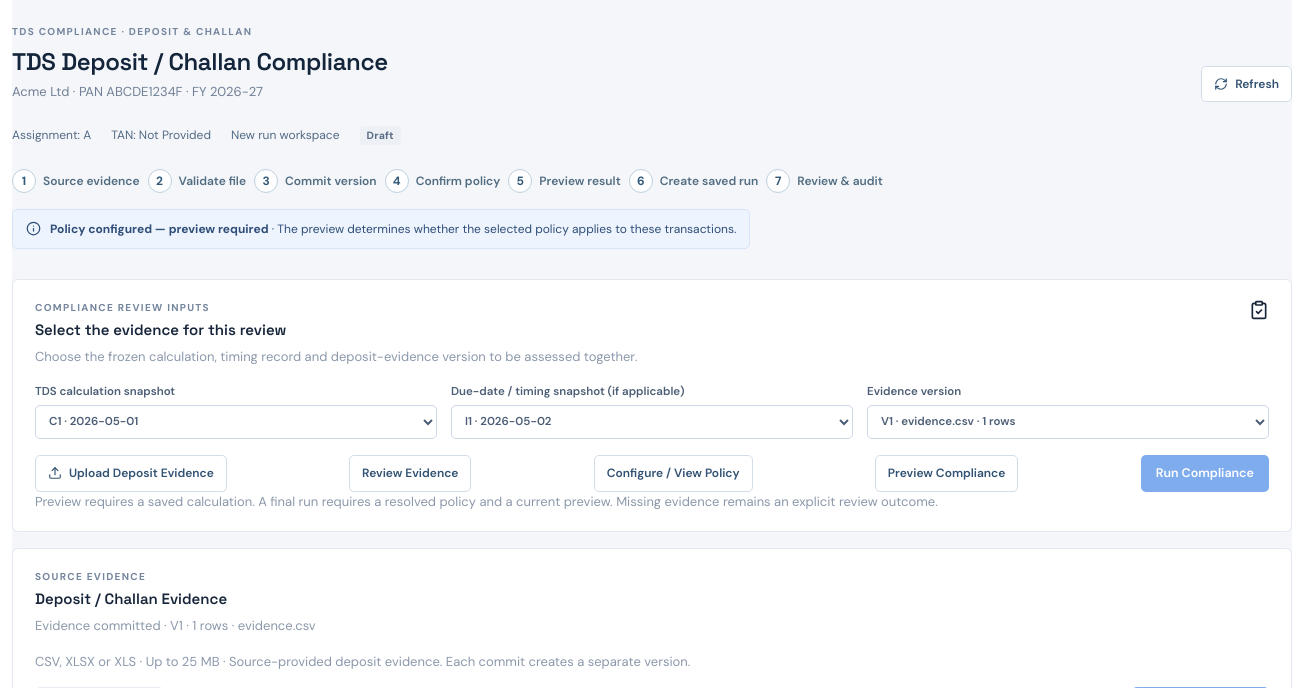
Scenario: ambiguous policy preview displays review without silently selecting a policy
This screenshot has width=1304, height=688.
Click the button "Preview Compliance" at (947, 473), box [875,455,1018,492]
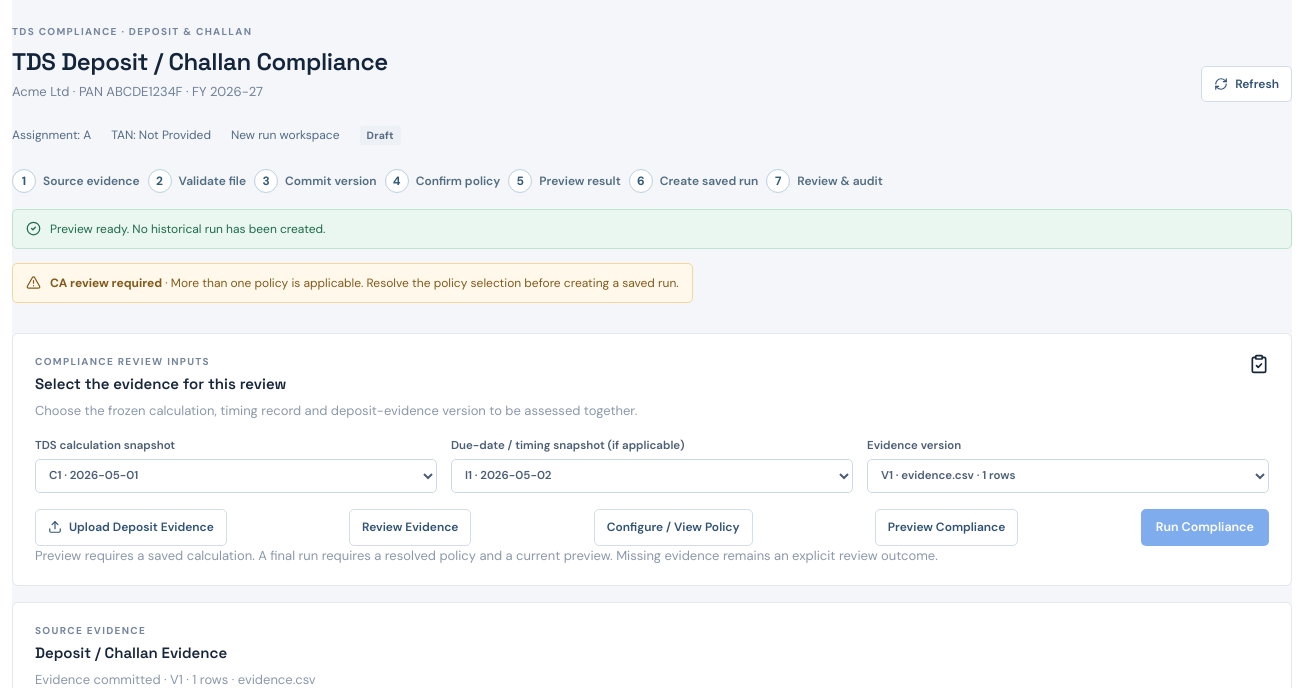
Expected: the text "review required" is shown, [50,275,162,291]
Now the text "More than one policy is applicable. Resolve the policy selection before creating a saved run." is shown, box [171,275,679,291]
